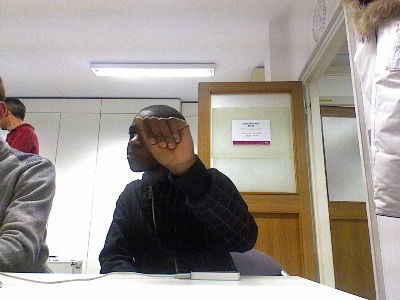石头: (134, 114, 195, 170)
